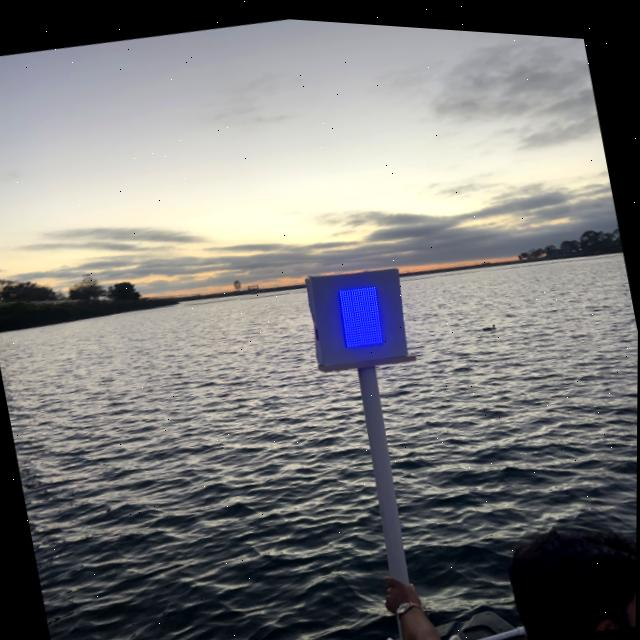led: (320, 264, 402, 365)
